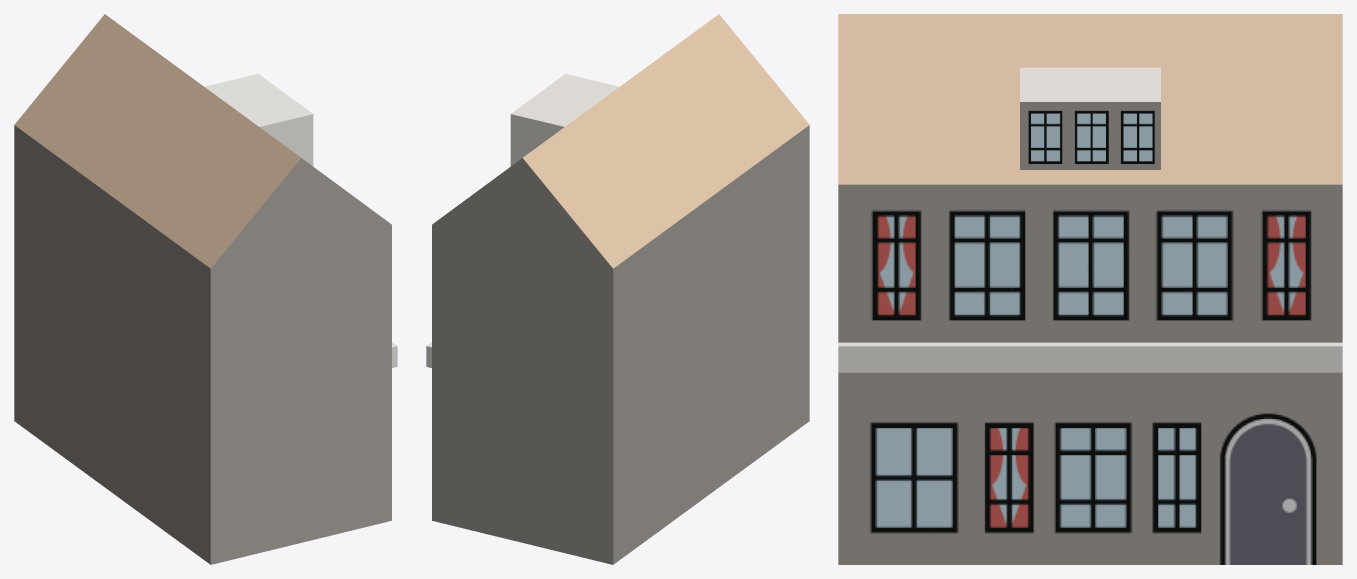
File: StandaardHuisBreed_Var3.fbx
3 renders of one model, left to right at view 1: azimuth 30°, elevation 25°; view 2: azimuth 150°, elevation 25°; view 3: azimuth 270°, elevation 25°, orthographic. The views are drawn at different scales.
Parts seen in each view (by area): view 1: StandaardHuisBreed_Var3; view 2: StandaardHuisBreed_Var3; view 3: StandaardHuisBreed_Var3.
Part boxes in pixels (x1,y1,x2,y2): StandaardHuisBreed_Var3: (14,14,397,564); StandaardHuisBreed_Var3: (426,14,809,564); StandaardHuisBreed_Var3: (838,14,1342,564).
Bounding box in the file's own units: 66.04 × 130 × 120.
1 material, 1 textured.
